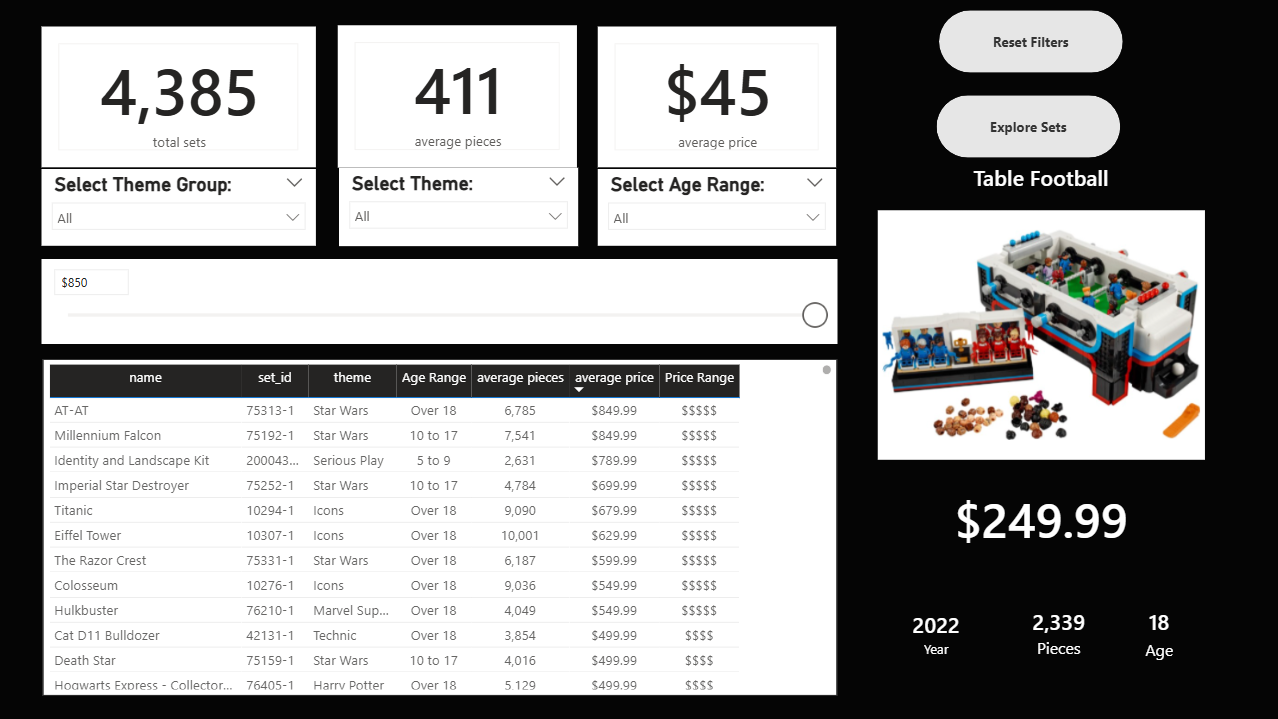

This screenshot's page, from the dashboard's own definition file:
{"tool":"powerbi","page":{"name":"Lego Set Finder","canvas":[1280,720],"ordinal":0},"visuals":[{"type":"cardVisual","fields":{"Data":["lego_sets.total sets"]},"box":[42,27,274,141],"z":0},{"type":"cardVisual","fields":{"Data":["lego_sets.average price"]},"box":[599,27,238,141],"z":1000},{"type":"cardVisual","fields":{"Data":["lego_sets.average pieces"]},"box":[339,26,239,142],"z":2000},{"type":"slicer","fields":{"Values":["lego_sets.theme"]},"box":[340,169,239,78],"z":3000},{"type":"slicer","fields":{"Values":["lego_sets.themeGroup"]},"box":[42,170,274,77],"z":4000},{"type":"slicer","fields":{"Values":["lego_sets.Age Range"]},"box":[599,170,238,77],"z":5000},{"type":"tableEx","fields":{"Values":["lego_sets.name","lego_sets.set_id","lego_sets.theme","lego_sets.Age Range","lego_sets.average pieces","lego_sets.average price","lego_sets.Price Range"]},"box":[43.1,359.6,794.6,336.8],"z":6000},{"type":"cardVisual","fields":{"Data":["lego_sets.Selected name"]},"box":[815.2,96.7,454.5,163],"z":7000},{"type":"simpleImageEBC4593F96F1425FB3D84C5BF02B5075","fields":{"imageURL":["lego_sets.imageURL"]},"box":[878.6,210.6,327.5,249.6],"z":8000},{"type":"cardVisual","fields":{"Data":["lego_sets.Selected year"]},"box":[878.6,575.7,117.1,117.1],"z":9000},{"type":"cardVisual","fields":{"Data":["lego_sets.Selected price"]},"box":[878.9,459.4,327.1,116.6],"z":10000},{"type":"cardVisual","fields":{"Data":["lego_sets.Selected pieces"]},"box":[995.7,575.7,127.1,115.7],"z":11000},{"type":"cardVisual","fields":{"Data":["lego_sets.Selected age"]},"box":[1105.7,575.7,108.6,117.1],"z":12000},{"type":"slicer","fields":{"Values":["Max Price.Max Price"]},"box":[42,260,795,85],"z":13000},{"type":"actionButton","box":[940,11.2,183.8,62.5],"z":14000},{"type":"actionButton","box":[937.5,96.2,183.8,62.5],"z":15000}]}

Visuals, with their boxes in screenshot pixels (x1, y1, x2, y2), scaled from the page's 1280x720 canvas onto the 1278x719 screenshot:
cardVisual - lego_sets.total sets: rect(42, 27, 316, 168)
cardVisual - lego_sets.average price: rect(598, 27, 836, 168)
cardVisual - lego_sets.average pieces: rect(338, 26, 577, 168)
slicer - lego_sets.theme: rect(339, 169, 578, 247)
slicer - lego_sets.themeGroup: rect(42, 170, 316, 247)
slicer - lego_sets.Age Range: rect(598, 170, 836, 247)
tableEx - lego_sets.name x lego_sets.set_id: rect(43, 359, 836, 695)
cardVisual - lego_sets.Selected name: rect(814, 97, 1268, 259)
simpleImageEBC4593F96F1425FB3D84C5BF02B5075 - lego_sets.imageURL: rect(877, 210, 1204, 460)
cardVisual - lego_sets.Selected year: rect(877, 575, 994, 692)
cardVisual - lego_sets.Selected price: rect(878, 459, 1204, 575)
cardVisual - lego_sets.Selected pieces: rect(994, 575, 1121, 690)
cardVisual - lego_sets.Selected age: rect(1104, 575, 1212, 692)
slicer - Max Price.Max Price: rect(42, 260, 836, 345)
actionButton: rect(939, 11, 1122, 74)
actionButton: rect(936, 96, 1120, 158)
